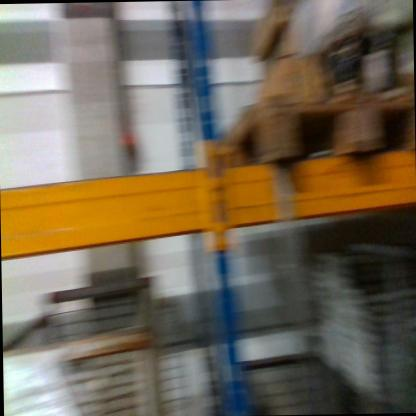pallet: (211, 83, 414, 160)
stillage: (3, 261, 165, 414)
